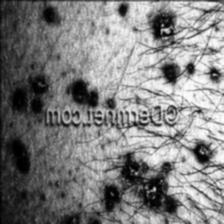Non-Cancerous Skin Condition: (155, 5, 186, 83), (74, 79, 100, 104), (143, 181, 161, 203), (125, 160, 140, 180), (105, 188, 117, 204)
